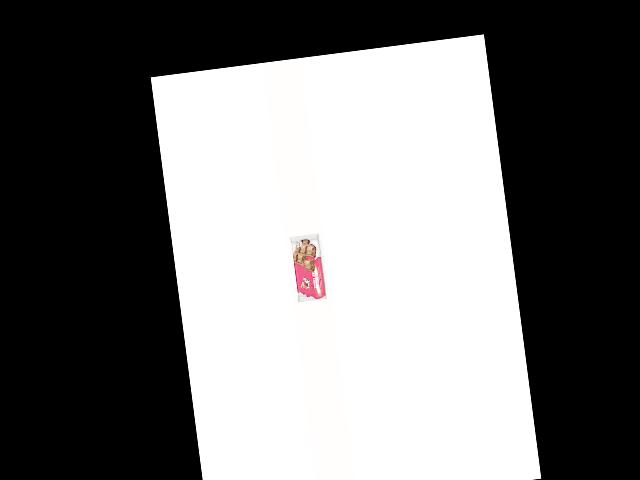chocolate: (293, 230, 343, 312)
